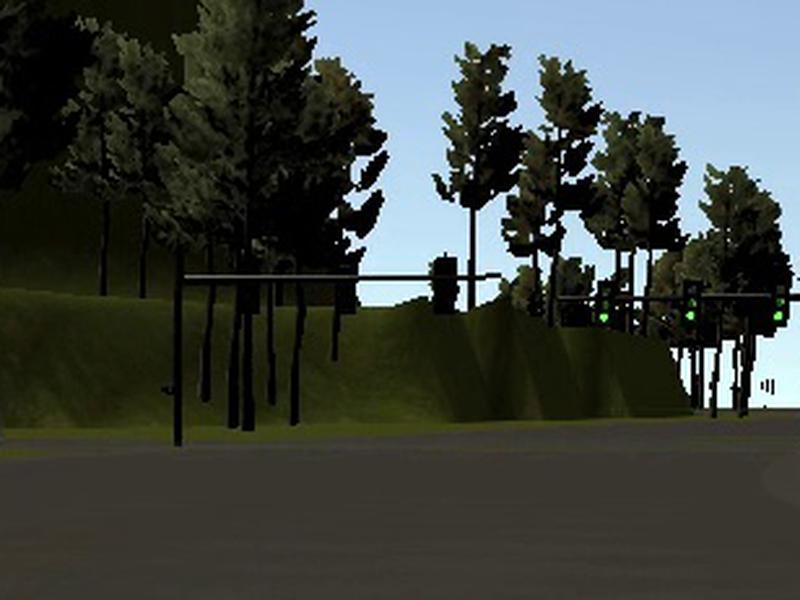Green: (593, 278, 616, 329), (769, 278, 792, 324), (683, 280, 703, 325)
